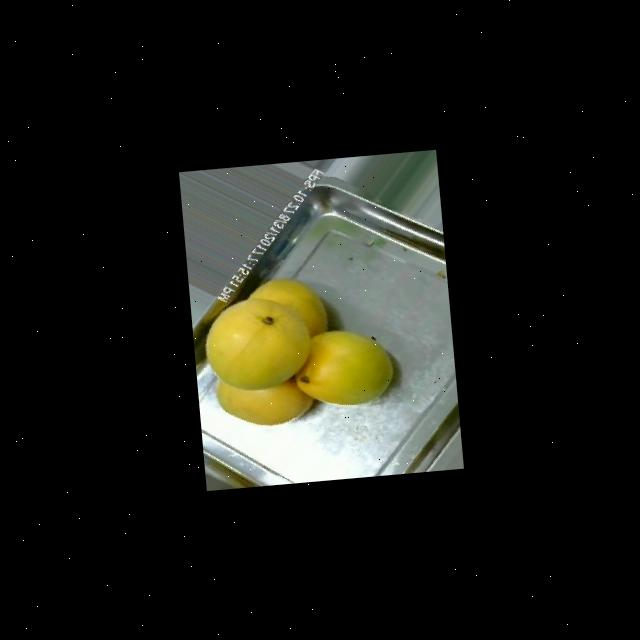Mango: (199, 293, 313, 395), (290, 326, 396, 410), (213, 371, 314, 430), (244, 274, 328, 342)
